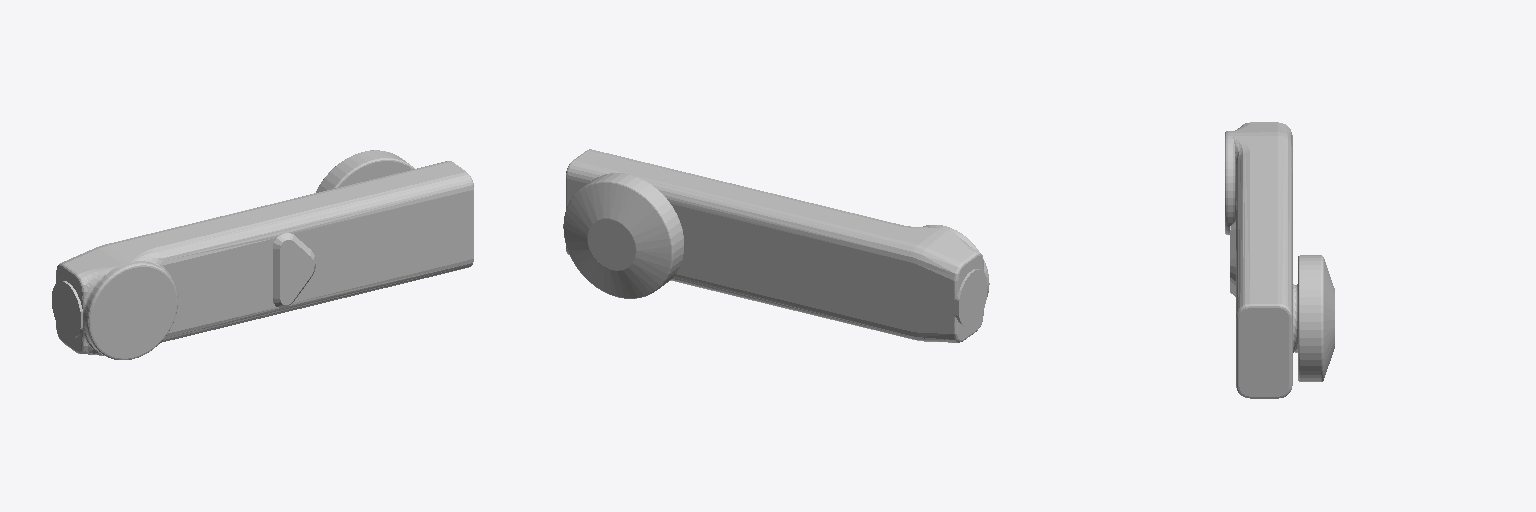
The model's file is solo12_hip_fe_hr.obj.
3 views of the same model, side by side, from view 1: azimuth 30°, elevation 25°; view 2: azimuth 150°, elevation 25°; view 3: azimuth 270°, elevation 25° (orthographic).
Visible parts, largest first — view 1: solo12_hip_fe_hr; view 2: solo12_hip_fe_hr; view 3: solo12_hip_fe_hr.
Boxes of the visible parts, x1=… form: solo12_hip_fe_hr: x1=52, y1=150, x2=473, y2=359; solo12_hip_fe_hr: x1=563, y1=149, x2=989, y2=342; solo12_hip_fe_hr: x1=1225, y1=122, x2=1334, y2=398.
Bounding box in the file's own units: 0.1614 × 0.045 × 0.0391.